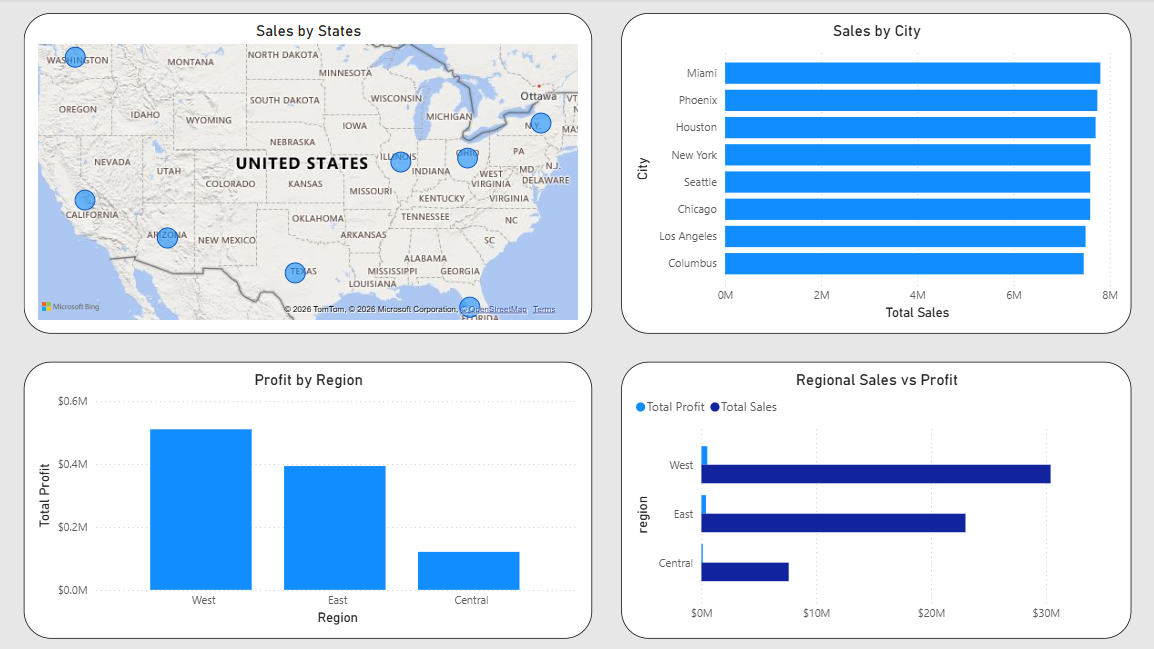

The page's visual inventory and layout, read from the dashboard file:
{"tool":"powerbi","page":{"name":"Regional Analysis","canvas":[1280,720],"ordinal":3},"visuals":[{"type":"map","title":"Sales by States","fields":{"Category":["vw_sales_dashboard.state"],"Size":["vw_sales_dashboard.Total Sales"]},"box":[32,16,624,352],"z":0},{"type":"barChart","title":"Sales by City","fields":{"Category":["vw_sales_dashboard.city"],"Y":["vw_sales_dashboard.Total Sales"]},"box":[688,16,560,352],"z":1000},{"type":"columnChart","title":"Profit by Region","fields":{"Category":["vw_sales_dashboard.region"],"Y":["vw_sales_dashboard.Total Profit"]},"box":[32,400,624,304],"z":2000},{"type":"clusteredBarChart","title":"Regional Sales vs Profit","fields":{"Category":["vw_sales_dashboard.region"],"Y":["vw_sales_dashboard.Total Profit","vw_sales_dashboard.Total Sales"]},"box":[688,400,560,304],"z":3000}]}

Visuals, with their boxes in screenshot pixels (x1, y1, x2, y2), scaled from the page's 1280x720 canvas onto the 1154x649 screenshot:
"Sales by States" map: Rect(29, 14, 591, 332)
"Sales by City" barChart: Rect(620, 14, 1125, 332)
"Profit by Region" columnChart: Rect(29, 361, 591, 635)
"Regional Sales vs Profit" clusteredBarChart: Rect(620, 361, 1125, 635)
